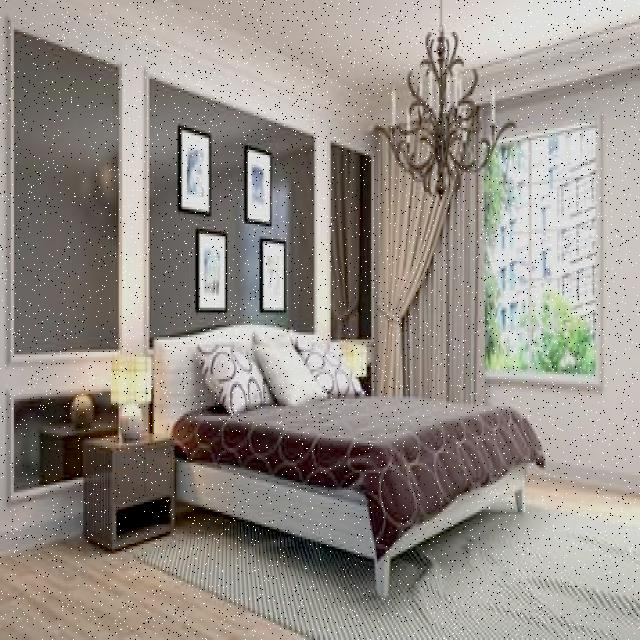bed: (158, 327, 540, 552)
